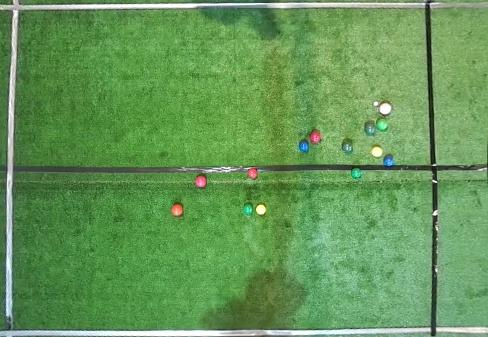blue: (383, 155, 394, 168), (298, 141, 309, 152)
green: (341, 141, 353, 153), (376, 119, 388, 131), (364, 123, 375, 136), (243, 204, 253, 215), (351, 168, 361, 179)
red: (310, 131, 322, 144), (379, 103, 392, 115), (171, 204, 183, 216), (195, 175, 207, 187), (247, 168, 258, 179)
vline: (425, 0, 487, 336), (0, 0, 21, 336)
white: (374, 101, 378, 106)
yellow: (371, 146, 383, 157), (255, 204, 266, 215)
